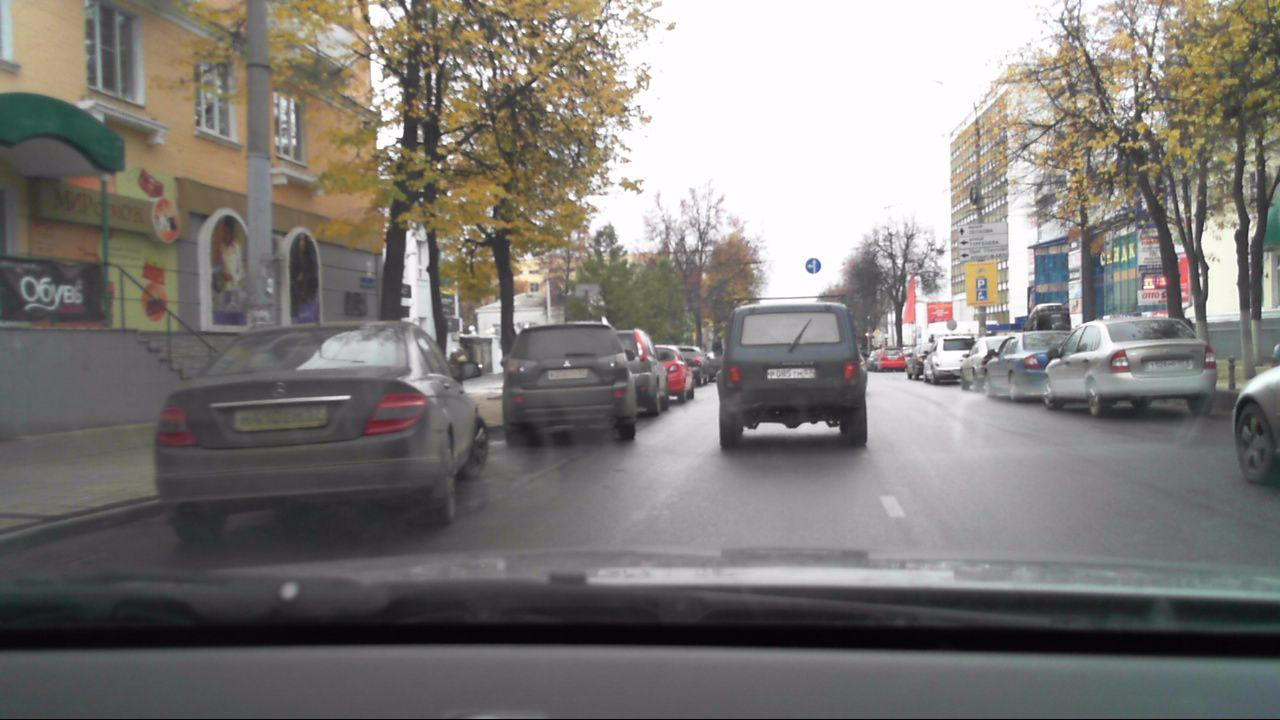4_1_5: (805, 257, 822, 274)
6_10_1: (954, 220, 1009, 260)
6_4: (976, 276, 988, 289)
